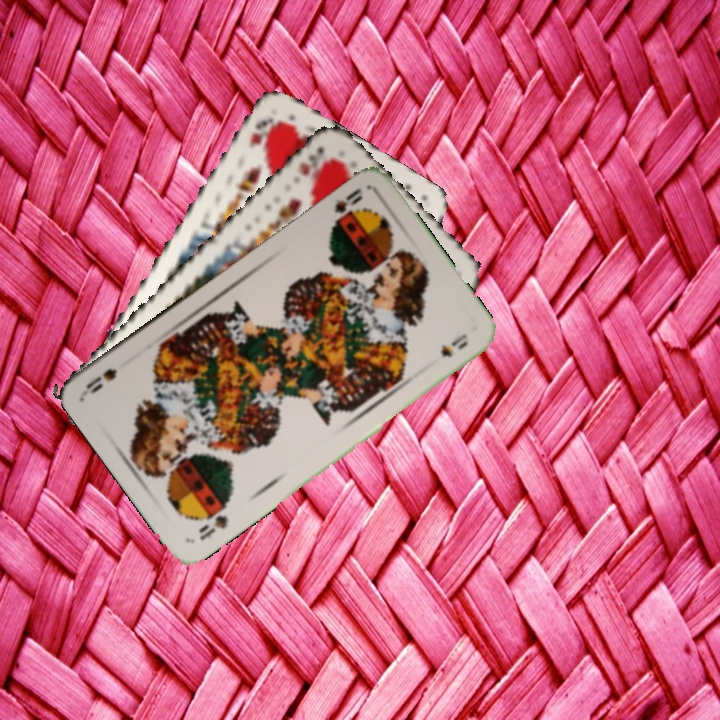HK: (295, 142, 335, 180), (245, 113, 277, 151)
SO: (194, 501, 231, 543), (329, 184, 366, 225)
